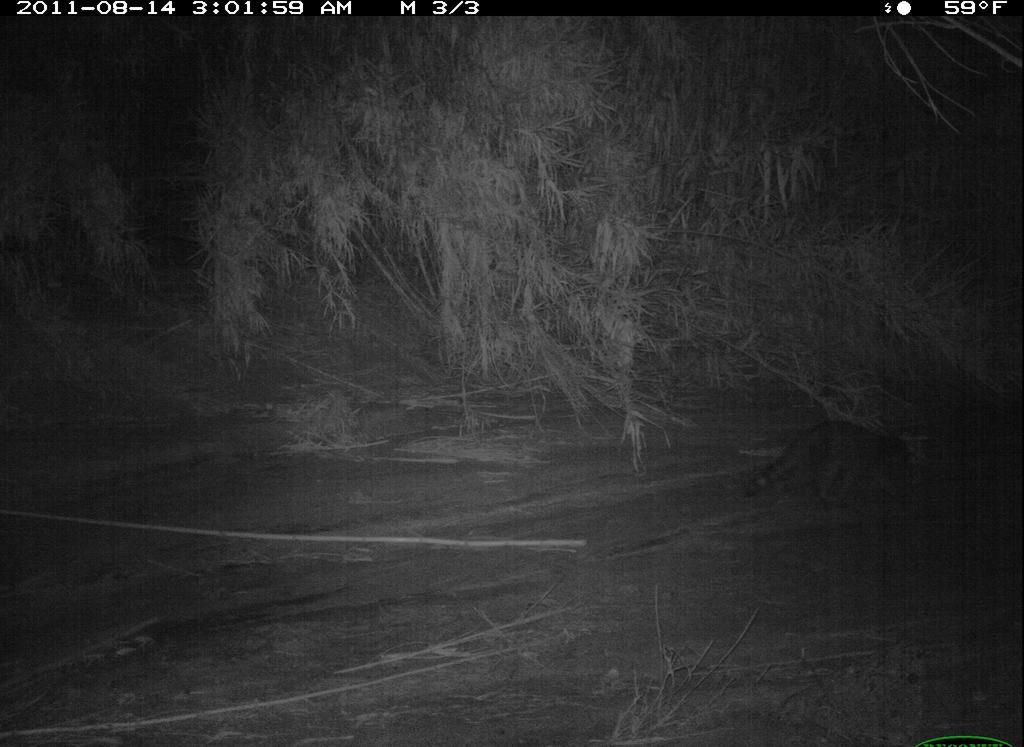raccoon: (735, 411, 927, 510)
